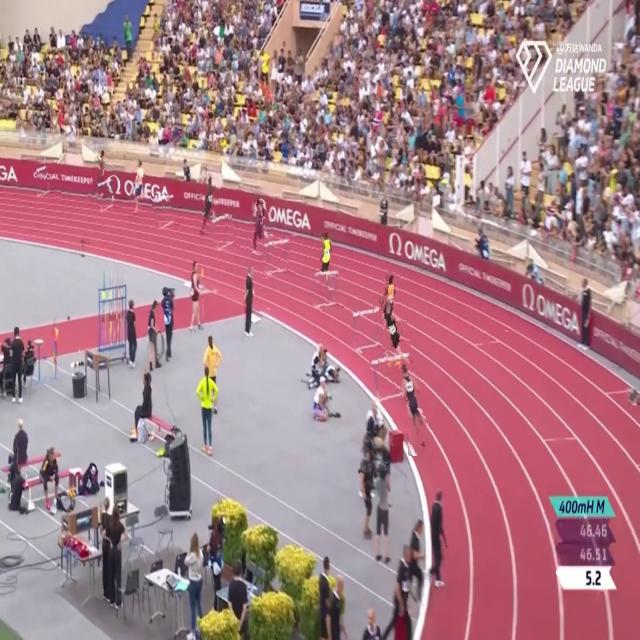athlete: (401, 357, 426, 456), (381, 295, 411, 366), (196, 172, 220, 236), (248, 196, 274, 254), (89, 145, 114, 205), (130, 156, 148, 220), (316, 229, 336, 286), (380, 271, 400, 321)
hurdle: (370, 351, 408, 401), (350, 303, 382, 354), (210, 208, 236, 253), (312, 264, 339, 307), (263, 234, 291, 275), (38, 160, 61, 202), (153, 193, 173, 230), (98, 177, 113, 214)
